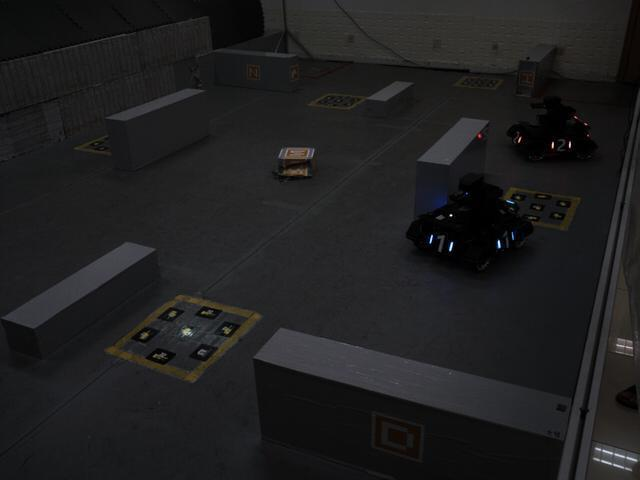armor: (490, 225, 518, 254), (428, 231, 457, 258), (547, 135, 575, 155), (508, 128, 525, 149)
